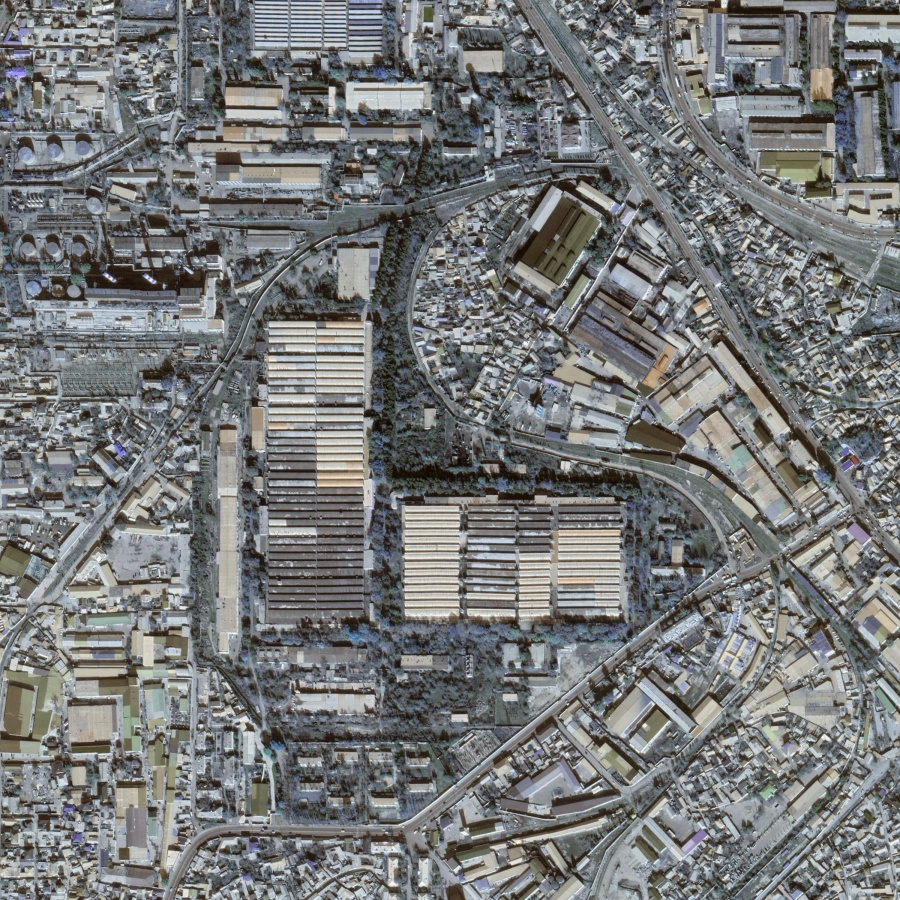PowerPlant: (8, 187, 229, 398)
